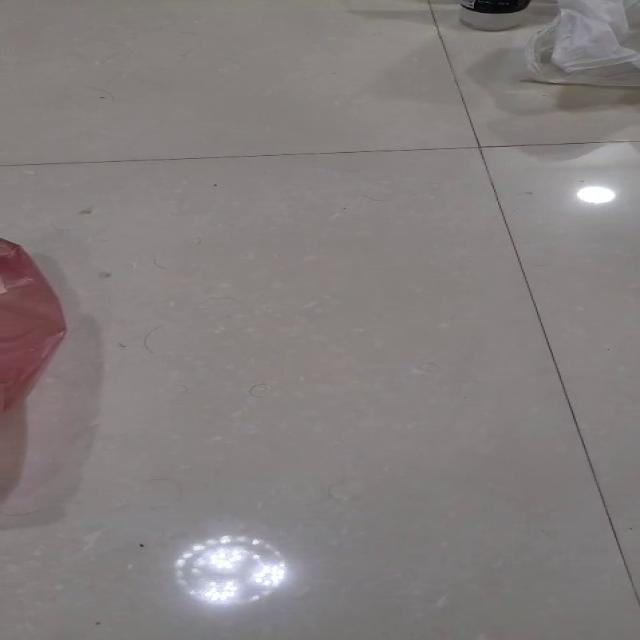plastic: (0, 237, 67, 411), (520, 0, 638, 87)
